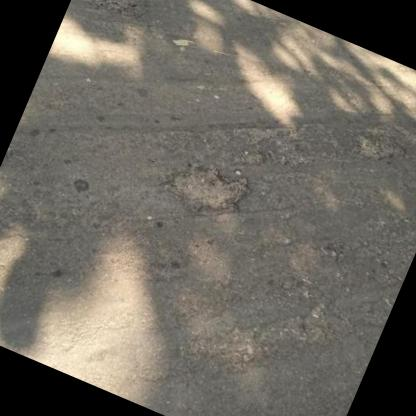pothole: (158, 146, 257, 228), (71, 0, 155, 29)
